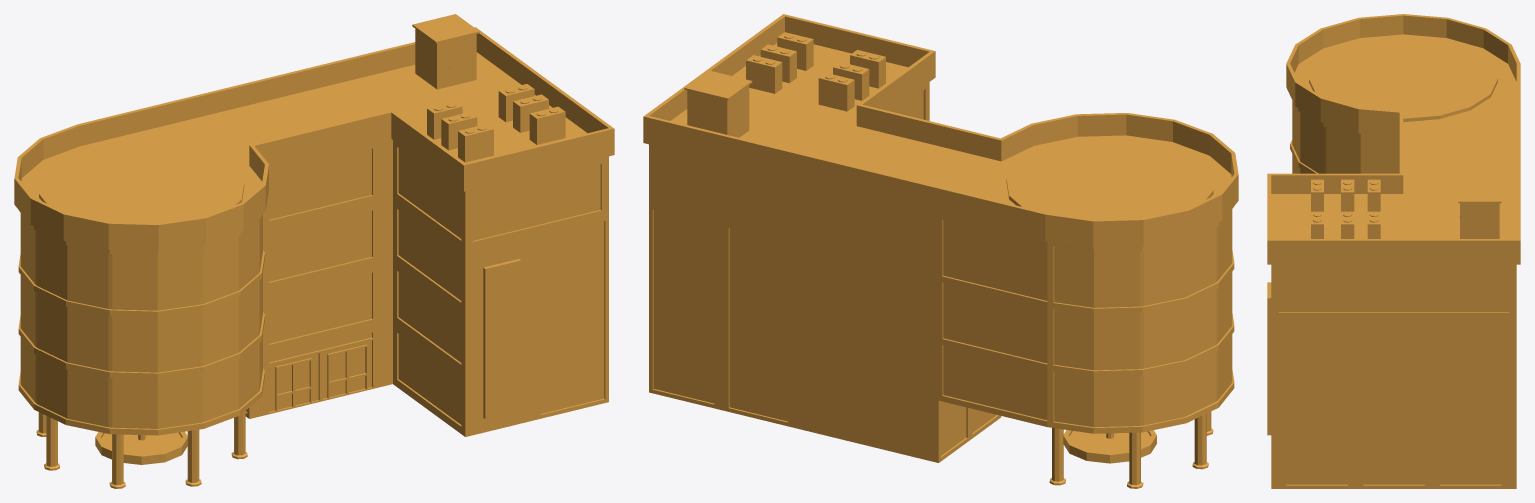
Rendered from building-mall.fbx.
The picture shows the model from 3 angles, left to right: view 1: azimuth 30°, elevation 25°; view 2: azimuth 150°, elevation 25°; view 3: azimuth 270°, elevation 25°; orthographic projection. The views are drawn at different scales.
Visible parts, largest first — view 1: building-mall; view 2: building-mall; view 3: building-mall.
Part boxes in pixels (x1,y1,x2,y2): building-mall: (14,14,614,488); building-mall: (643,14,1238,488); building-mall: (1267,14,1520,488).
Size of the model in its own units: 28.4 by 16.1 by 13.4.
